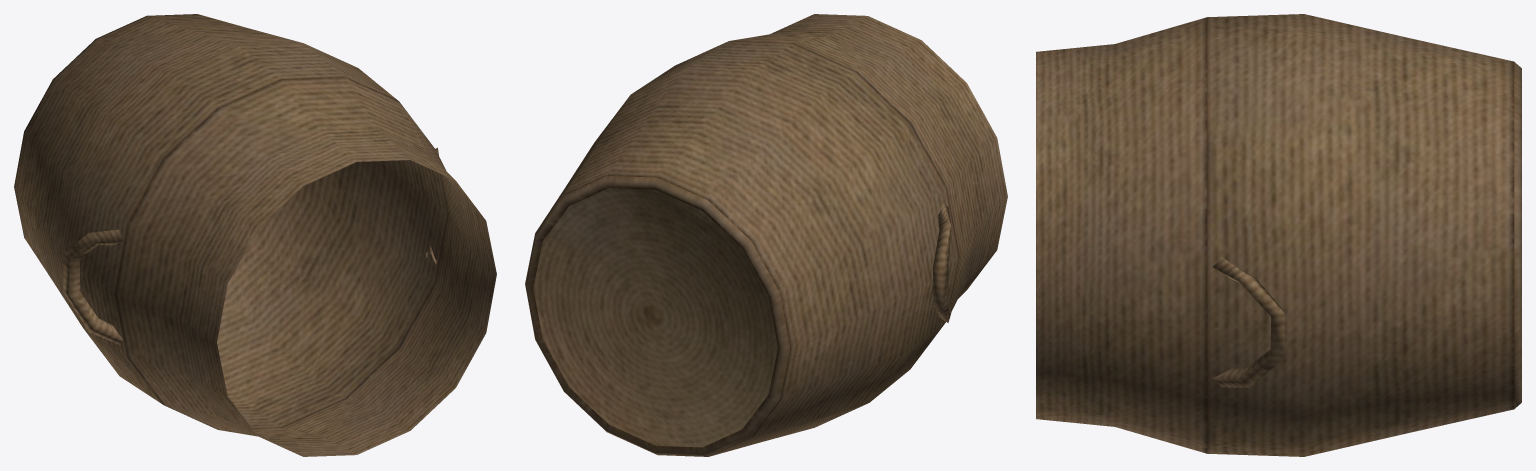
File: prop_wickerbasket3.glb
3 renders of one model, left to right at view 1: azimuth 30°, elevation 25°; view 2: azimuth 150°, elevation 25°; view 3: azimuth 270°, elevation 25°, orthographic. The views are drawn at different scales.
Size of the model in its own units: 31.85 by 29.29 by 32.1.
1 material, 1 textured.
